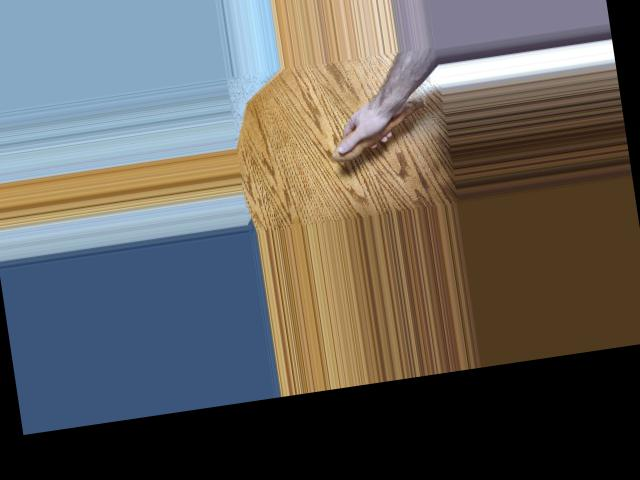sweet_potato: (324, 93, 438, 166)
